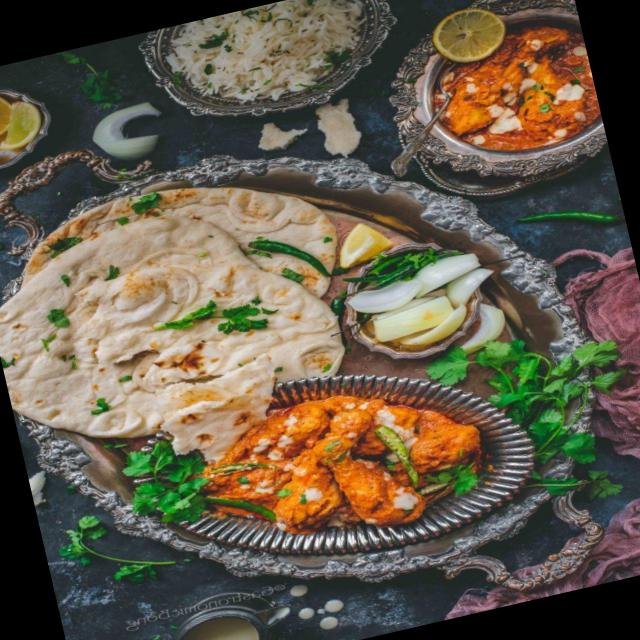chicken: (173, 378, 478, 557), (436, 9, 594, 174)
rice: (137, 0, 392, 126)
roti: (0, 123, 363, 471)
